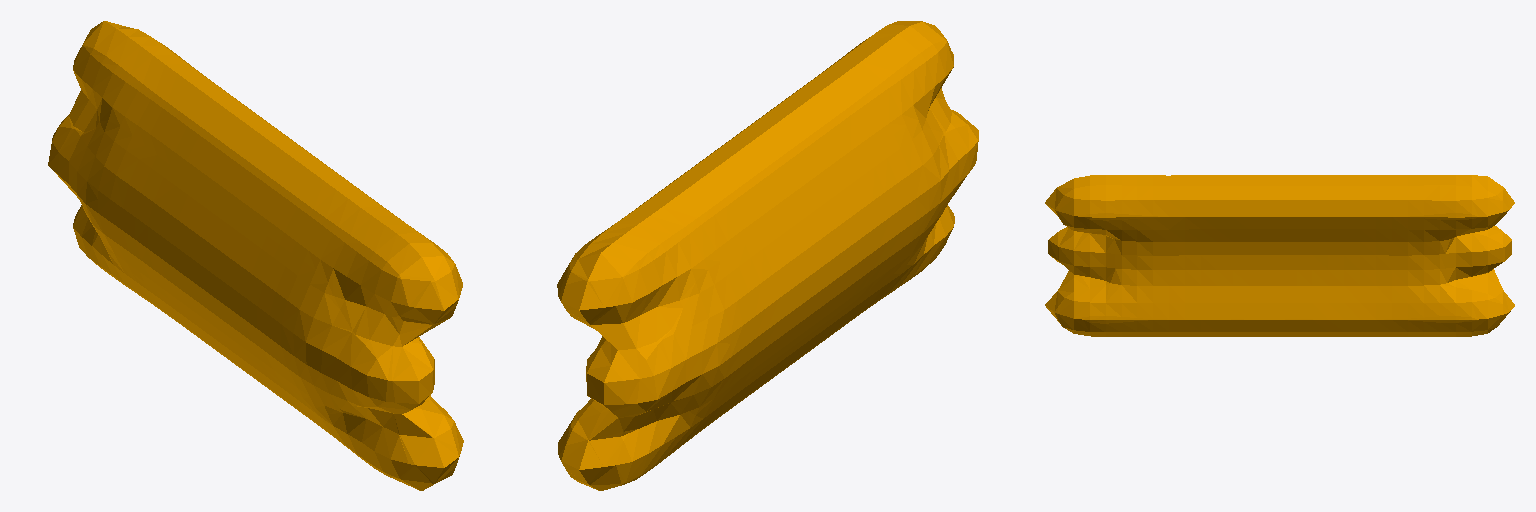
The robot description file, URDF, robot "V14_1":
<?xml version="1.0"?>
<robot name="V14_1">
  <link name="base_link">
    <inertial>
      <mass value="0.13366" />
      <origin xyz="0 0 0" />
      <inertia  ixx="0.0002" ixy="0.0"  ixz="0.0"  iyy="0.0002"  iyz="0.0" izz="0.0002" />
    </inertial>
    <visual>
      <geometry>
        <mesh filename="../../../meshes/egad/train/V14_1.obj" />
      </geometry>
    </visual>
    <collision>
      <geometry>
        <mesh filename="../../../meshes/egad/train/V14_1.obj" />
      </geometry>
    </collision>
  </link>
</robot>

--- Facts derived from the render (not from the file) ---
The picture shows the robot from 3 angles, left to right: view 1: azimuth 30°, elevation 25°; view 2: azimuth 150°, elevation 25°; view 3: azimuth 270°, elevation 25°; orthographic projection.
Model V14_1 with 1 links and 0 joints (none), rooted at base_link, posed every joint at zero.
Visible links, largest first — view 1: base_link; view 2: base_link; view 3: base_link.
Link boxes in pixels (x1,y1,x2,y2): base_link: (48, 21, 463, 490); base_link: (557, 21, 978, 490); base_link: (1045, 175, 1514, 336).
Size in the robot's own frame: 0.0136 by 0.075 by 0.0278 metres.
1 mesh visuals loaded from 1 distinct referenced files (1 OBJ).